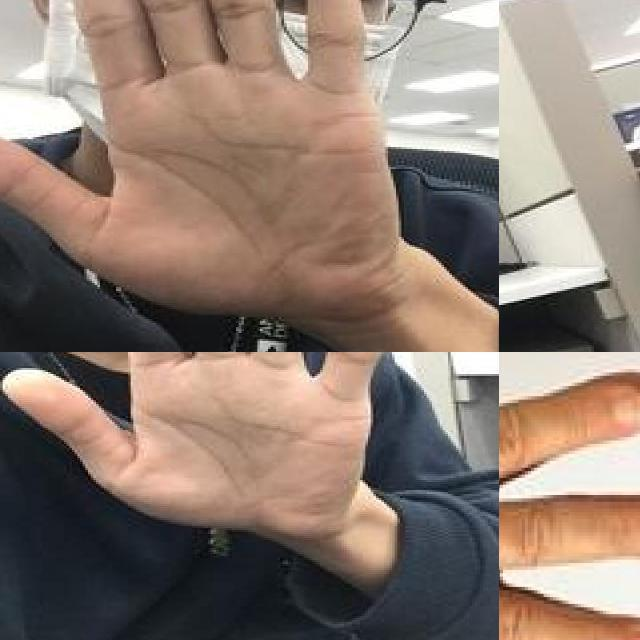hand: (0, 0, 399, 321), (2, 352, 392, 547), (499, 352, 640, 640), (499, 81, 640, 352)
